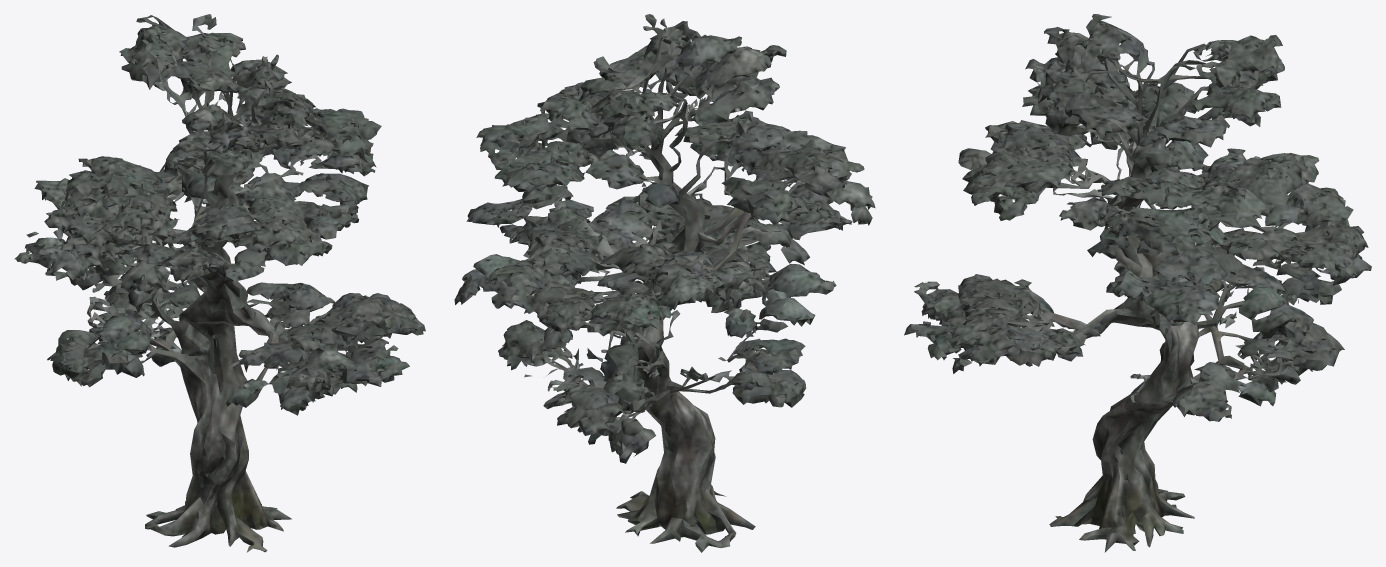
File: tree.glb
The picture shows the model from 3 angles, left to right: view 1: azimuth 30°, elevation 25°; view 2: azimuth 150°, elevation 25°; view 3: azimuth 270°, elevation 25°; orthographic projection. The views are drawn at different scales.
Visible parts, largest first — view 1: geometry_0; view 2: geometry_0; view 3: geometry_0.
Boxes of the visible parts, x1,y1,x2,y2 form: geometry_0: (14,14,425,552); geometry_0: (454,14,875,552); geometry_0: (904,14,1371,552).
Size of the model in its own units: 6.29 by 8 by 6.88.
Materials: 1 (1 with a texture image).
